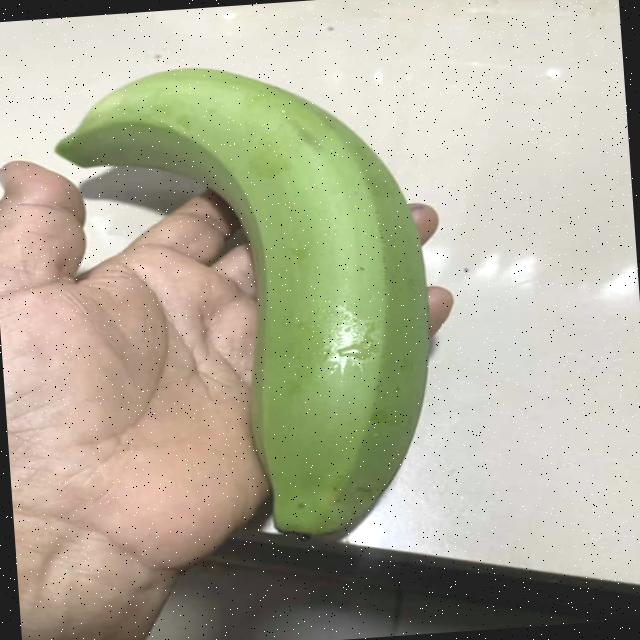Raw: (42, 31, 484, 581)
